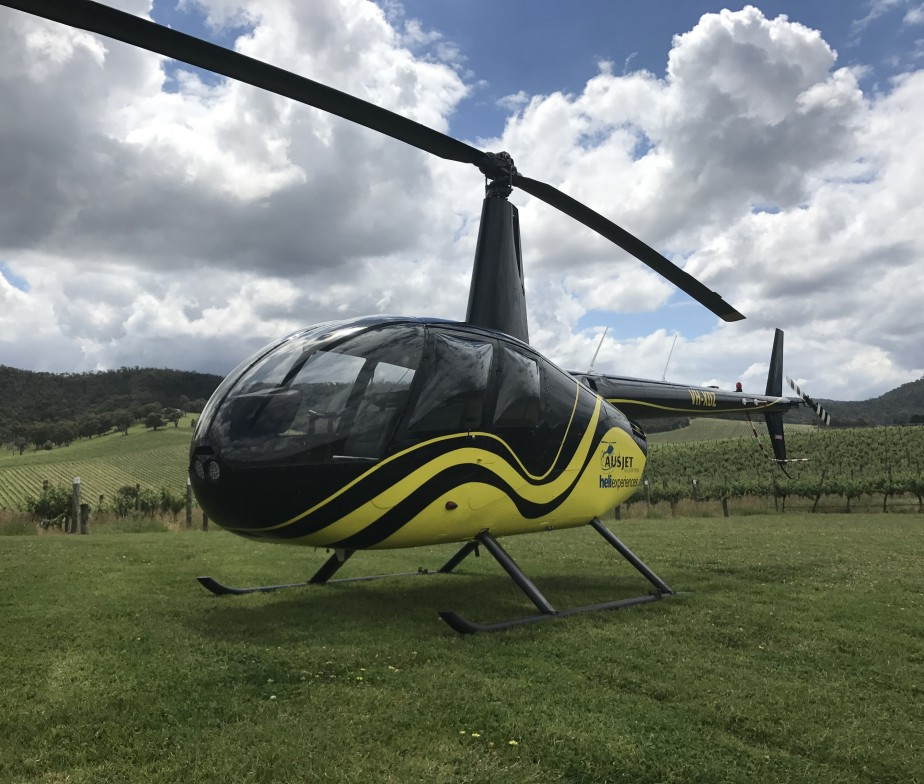Helicopter: (136, 145, 776, 606)
